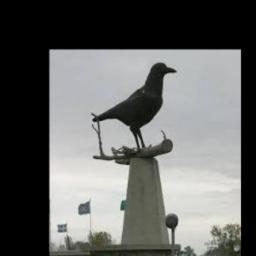Crow: (91, 62, 177, 154)
